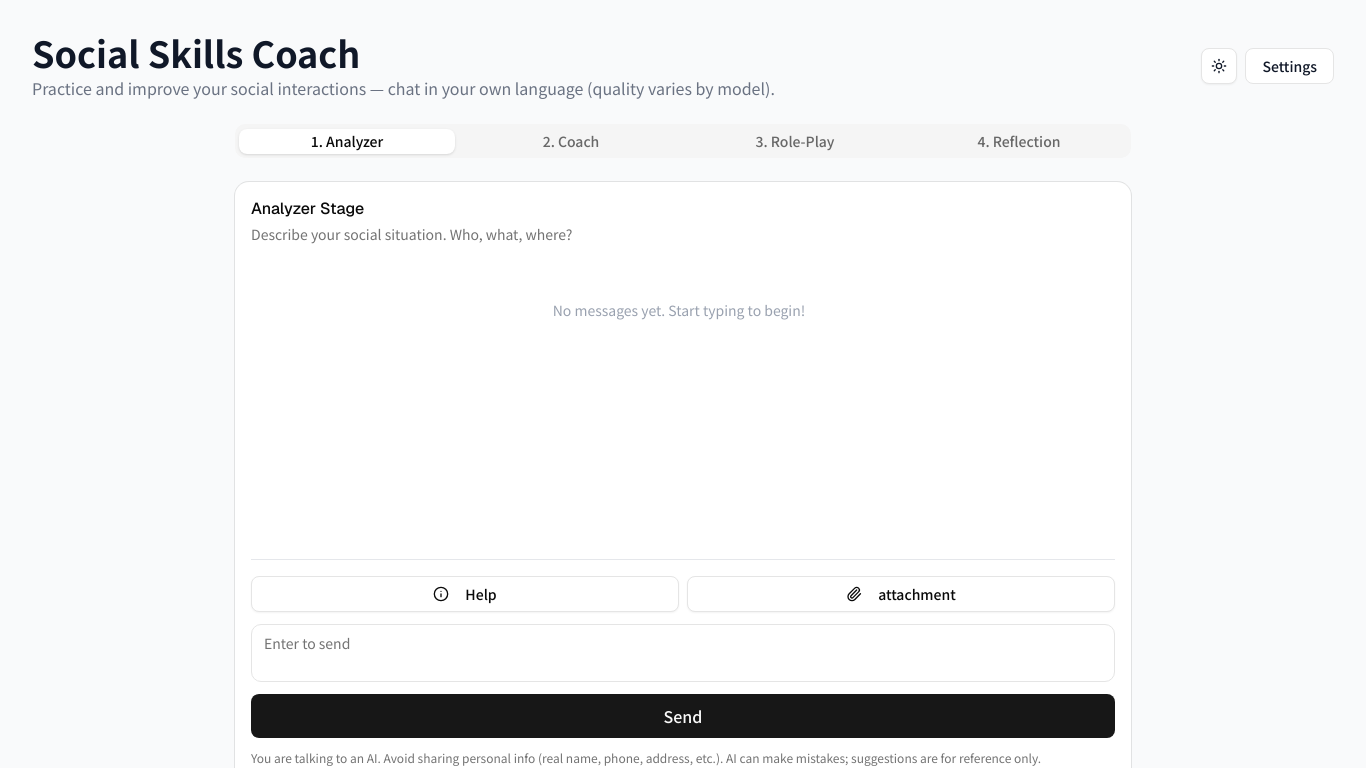
Test: Page › submits a message
Type "test input" into the text box with placeholder "Enter to send" at (683,653), box [251,624,1115,682]
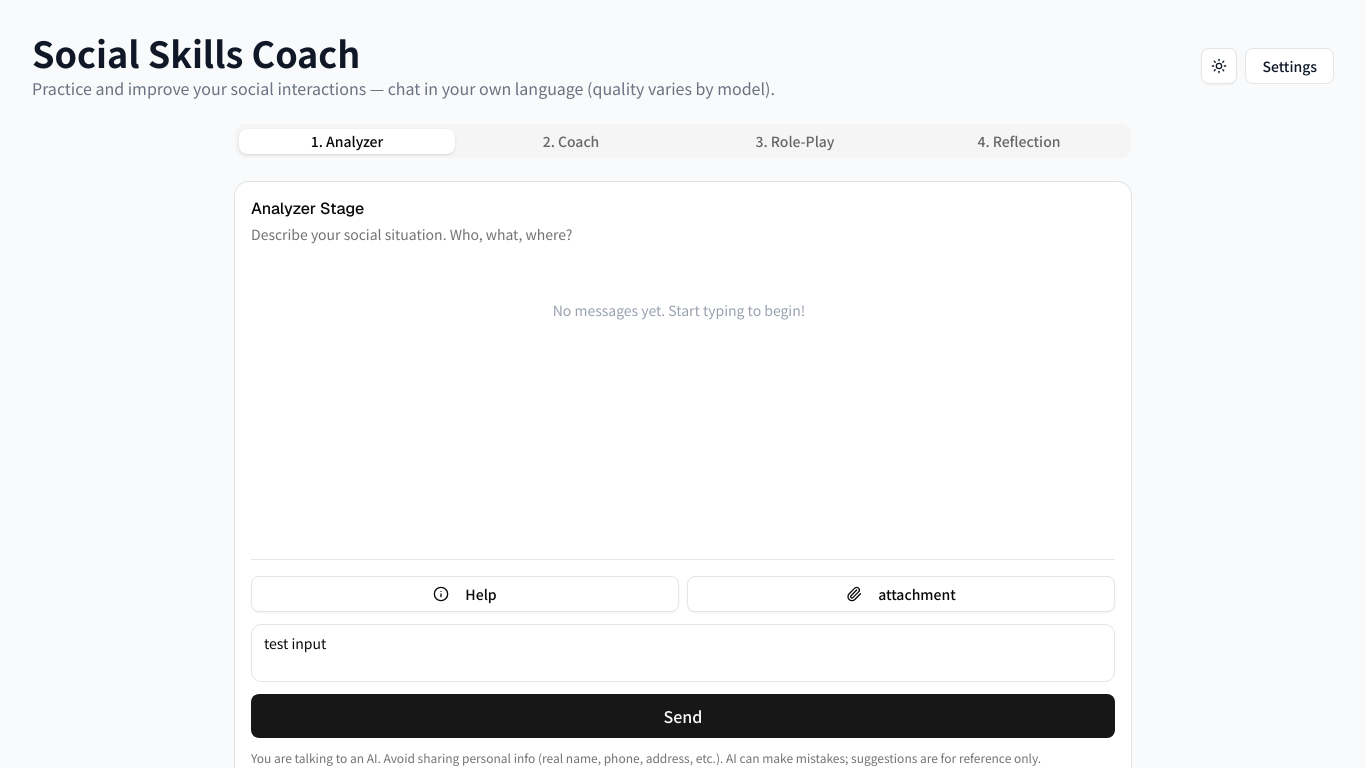
Submit the form with placeholder "Enter to send", box [251,576,1115,766]
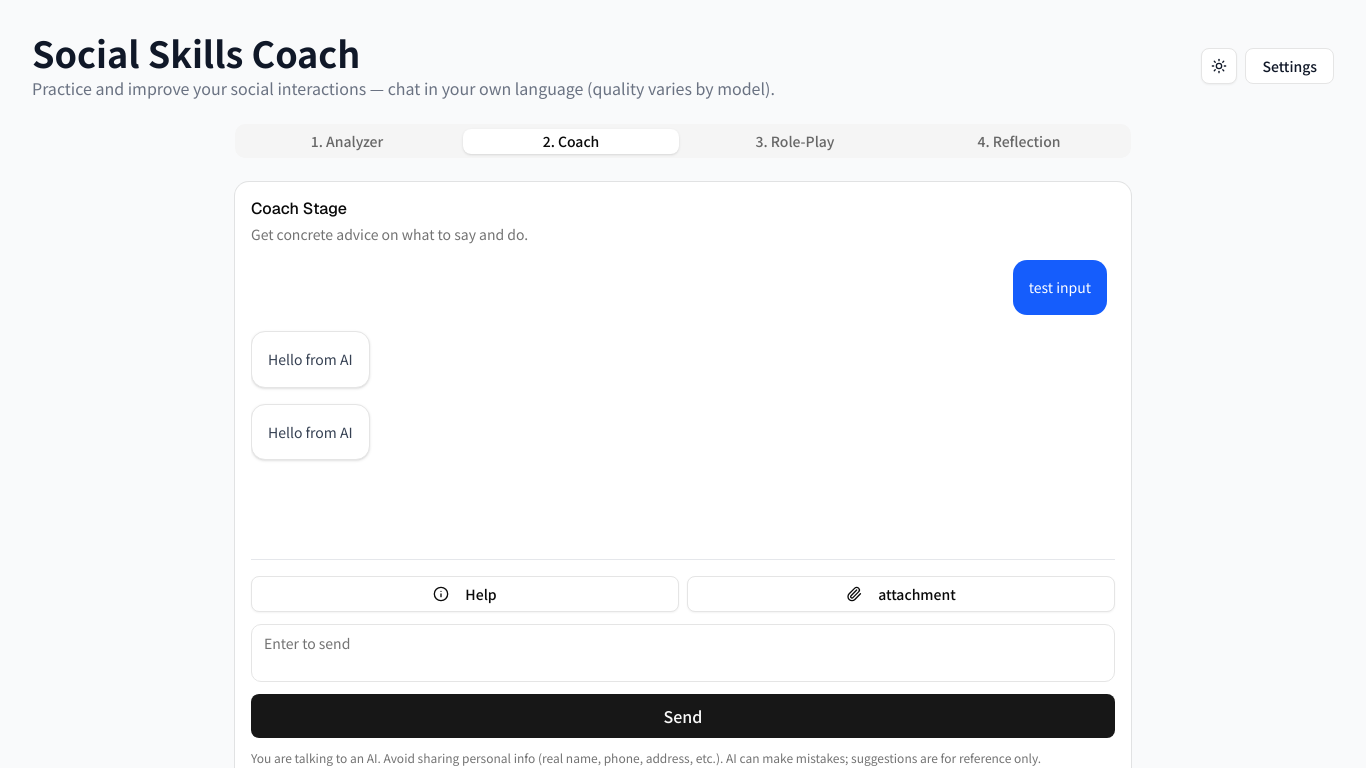
Check: the text "test input" is shown, box [1029,276,1091,299]
Check: the 1st text "Hello from AI" is shown, box [268,348,352,371]
